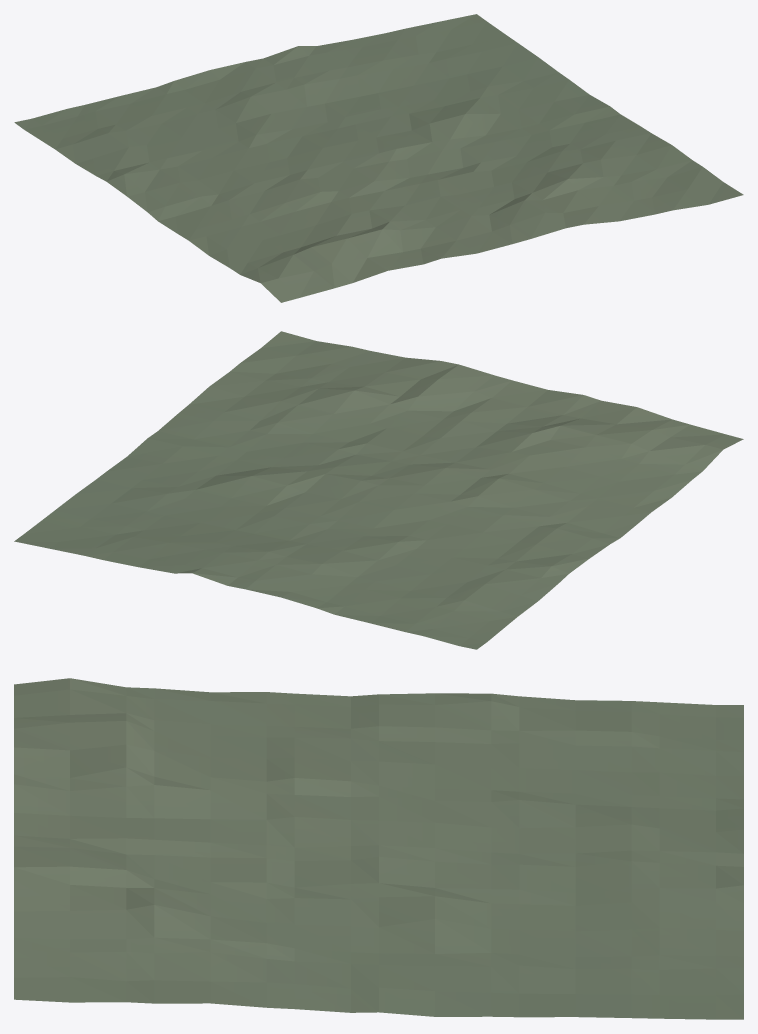
Rendered from tile_3_0.glb.
3 renders of one model, top to bottom at view 1: azimuth 30°, elevation 25°; view 2: azimuth 150°, elevation 25°; view 3: azimuth 270°, elevation 25°, orthographic. The views are drawn at different scales.
Parts seen in each view (by area): view 1: geometry_0; view 2: geometry_0; view 3: geometry_0.
Boxes of the visible parts, x1=… form: geometry_0: x1=14, y1=14, x2=743, y2=302; geometry_0: x1=14, y1=331, x2=743, y2=649; geometry_0: x1=14, y1=678, x2=743, y2=1019.
Size of the model in its own units: 127 by 7.47 by 127.
